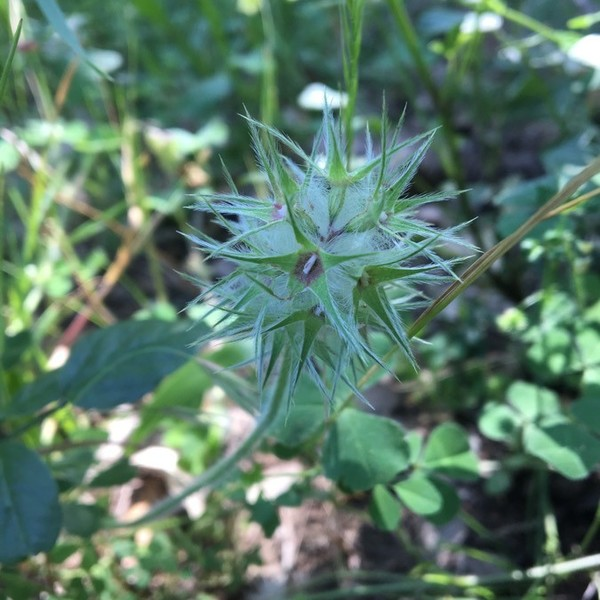obstacle: (184, 81, 469, 531)
